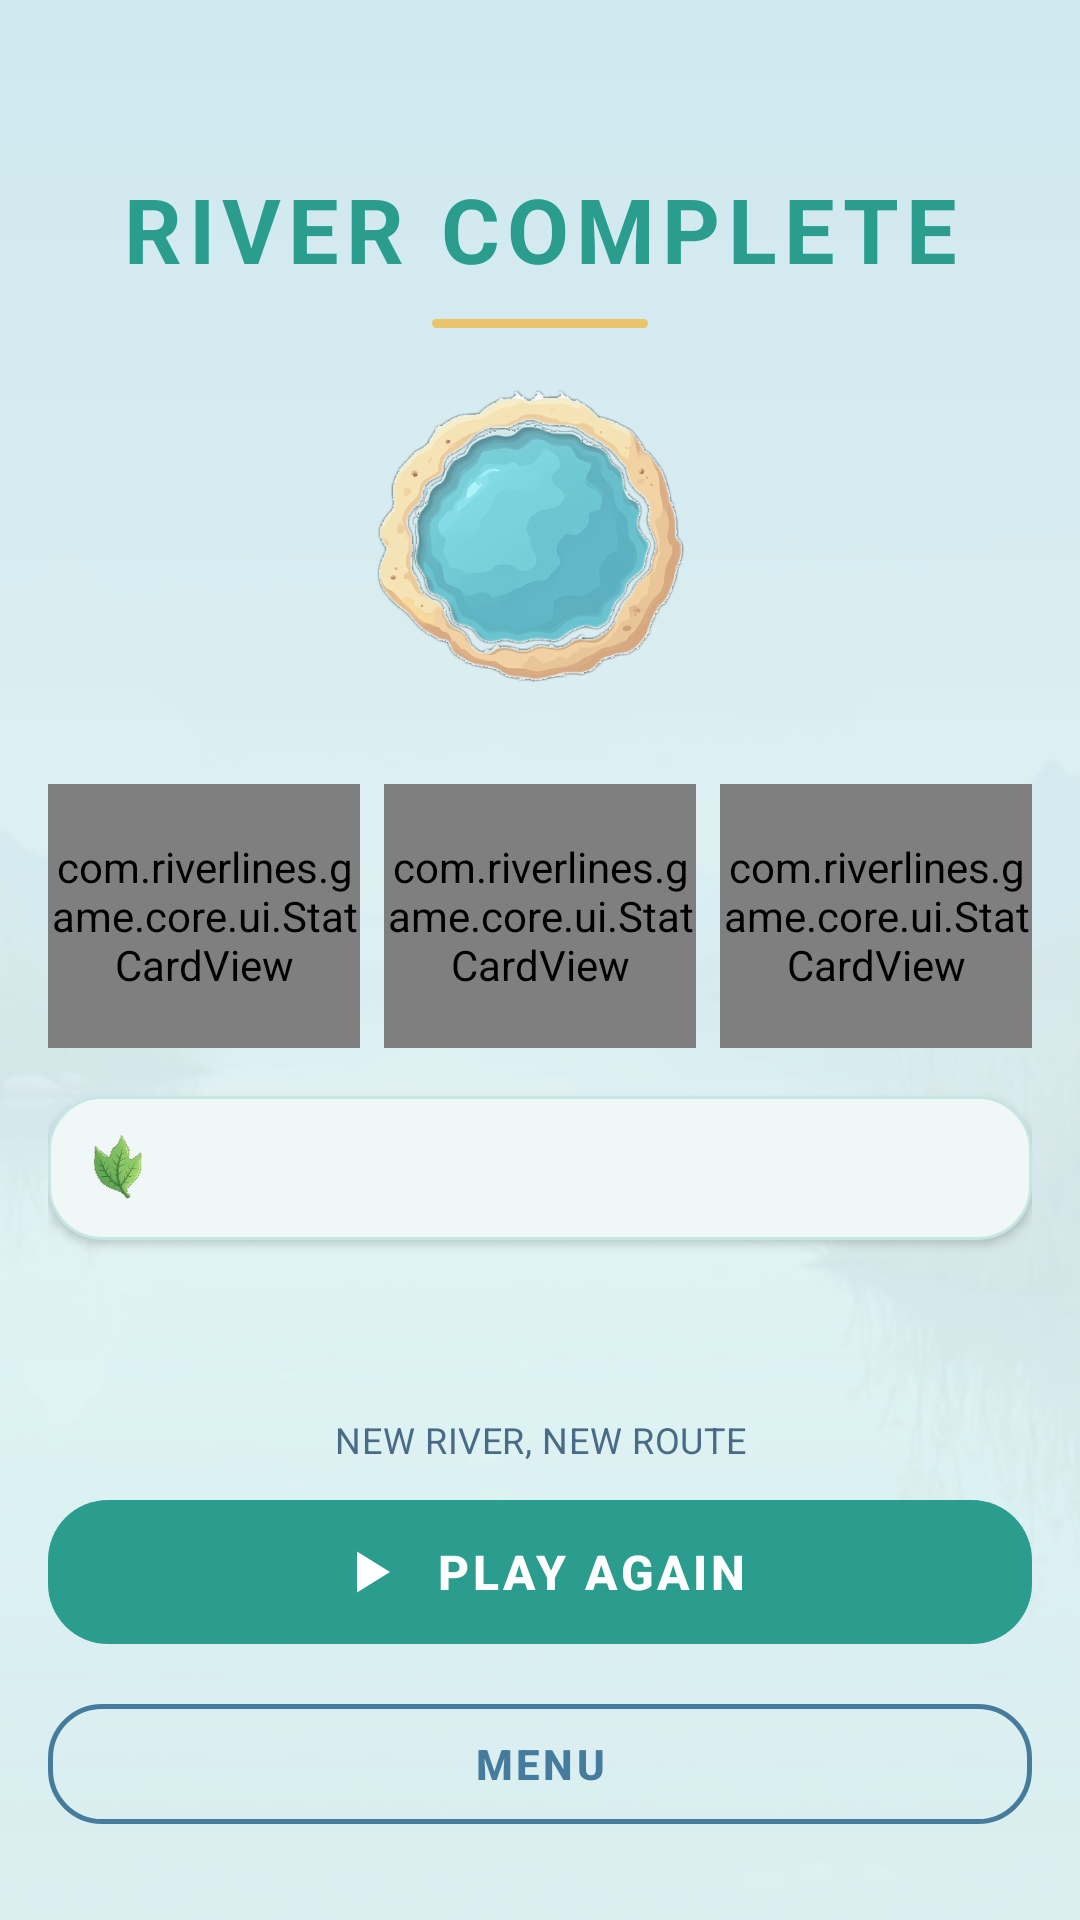

Icon click points for this 1080×1920 phone screenshot, format (x=x, y=y):
Round result illustration: (x=531, y=536)
